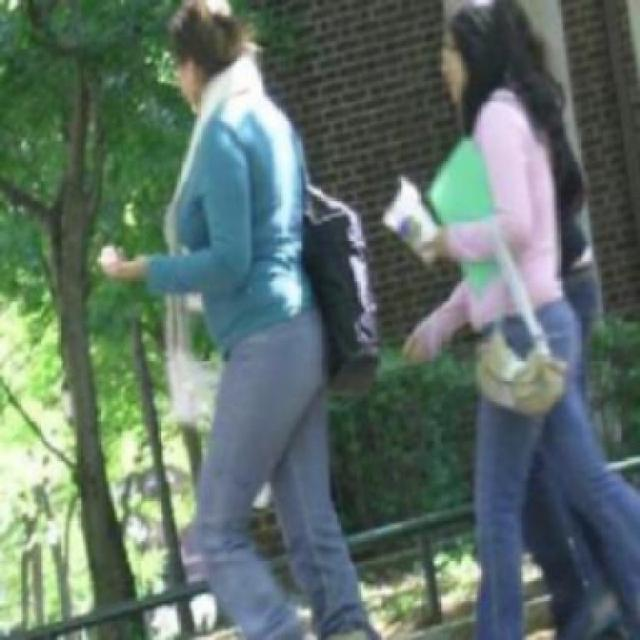Person: (115, 3, 380, 639), (415, 0, 638, 638)
